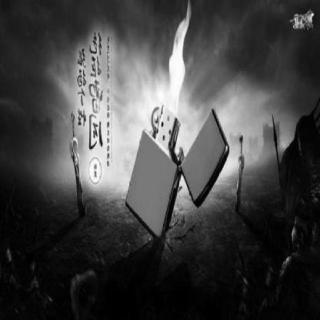Fire: (162, 0, 200, 113)
